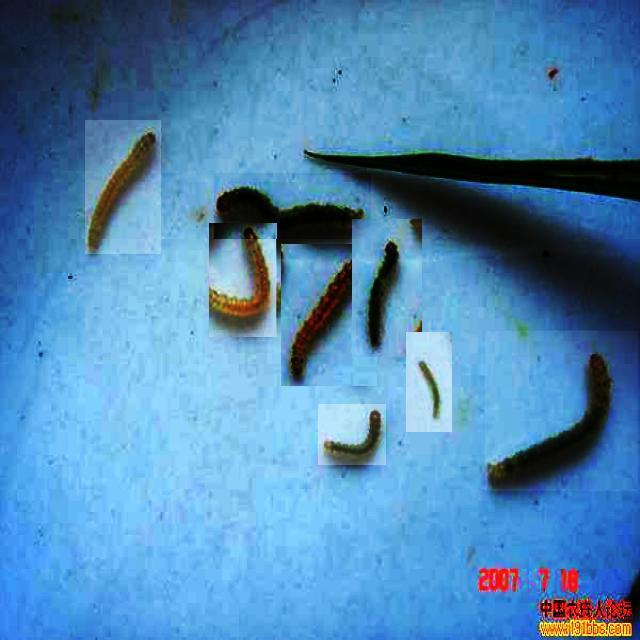leaf-folder: (485, 331, 638, 491), (281, 245, 377, 387), (214, 173, 371, 239), (85, 120, 161, 254), (352, 219, 422, 357), (210, 223, 278, 337), (406, 332, 452, 432), (319, 404, 387, 465)
